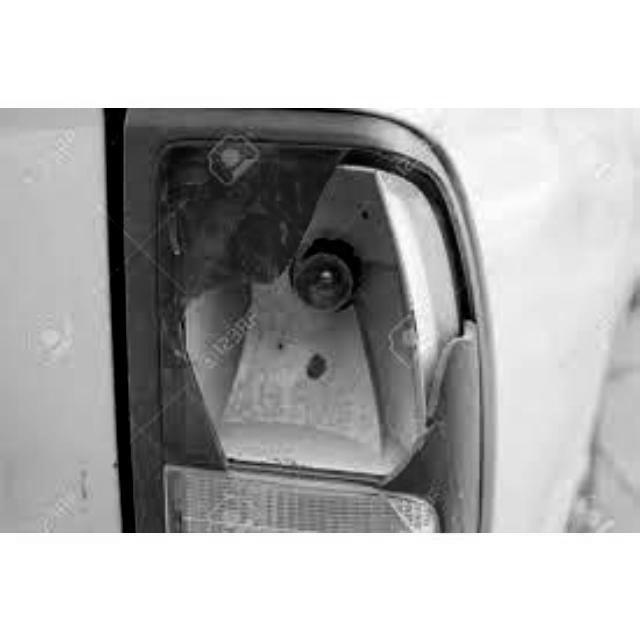Taillight-Damage: (107, 108, 477, 531)
